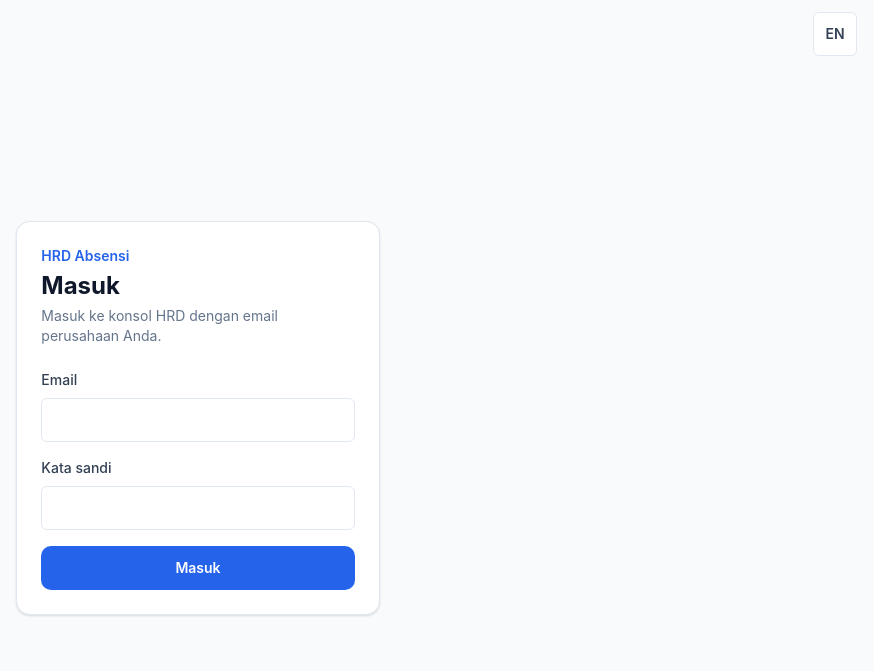
Test: LoginPage › never leaks which field was wrong in the rejected-credential copy
The image size is (874, 671).
Type "nobody@corp.test" into the field labelled "Email" at (198, 420), box [41,398,355,442]
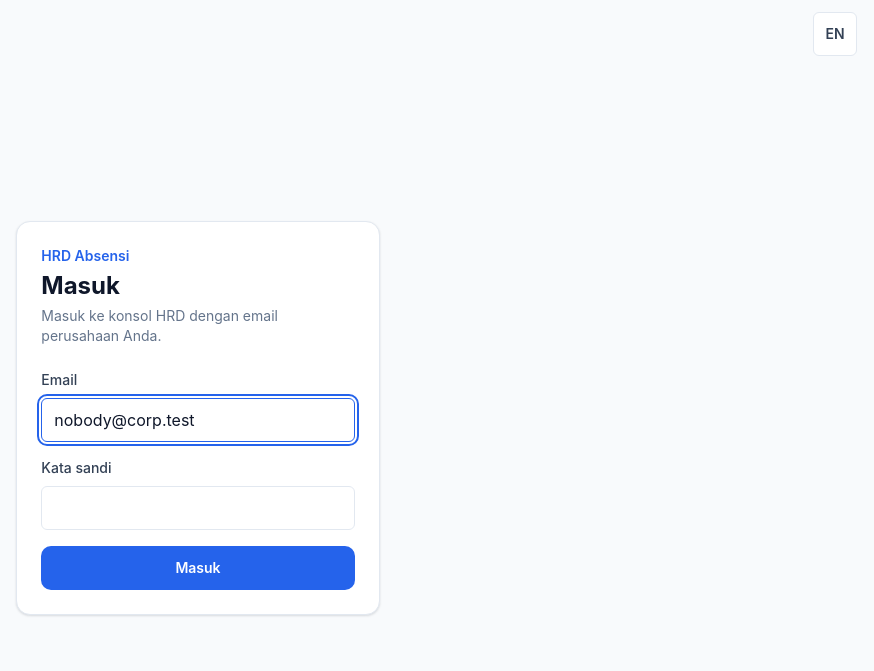
Type "secret-1" into the password field labelled "Kata sandi" at (198, 508), box [41,486,355,530]
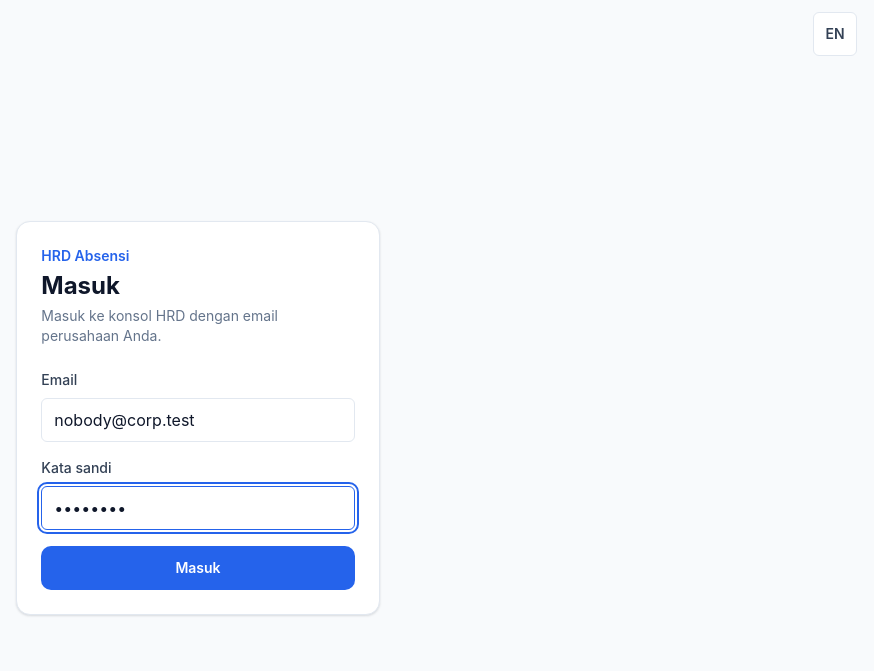
Click the button "Masuk" at (198, 568), box [41,546,355,590]
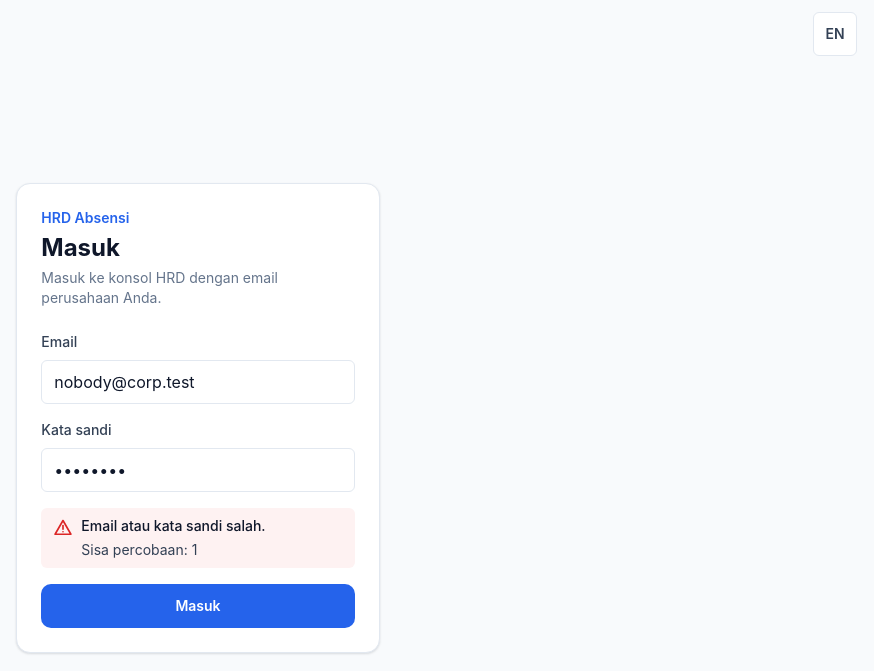
expect the message with test id "login-error" does not show "nobody@corp.test": met, box [41,508,355,568]
expect the message with test id "login-error" shows "Email atau kata sandi salah.": met, box [81,517,266,534]
